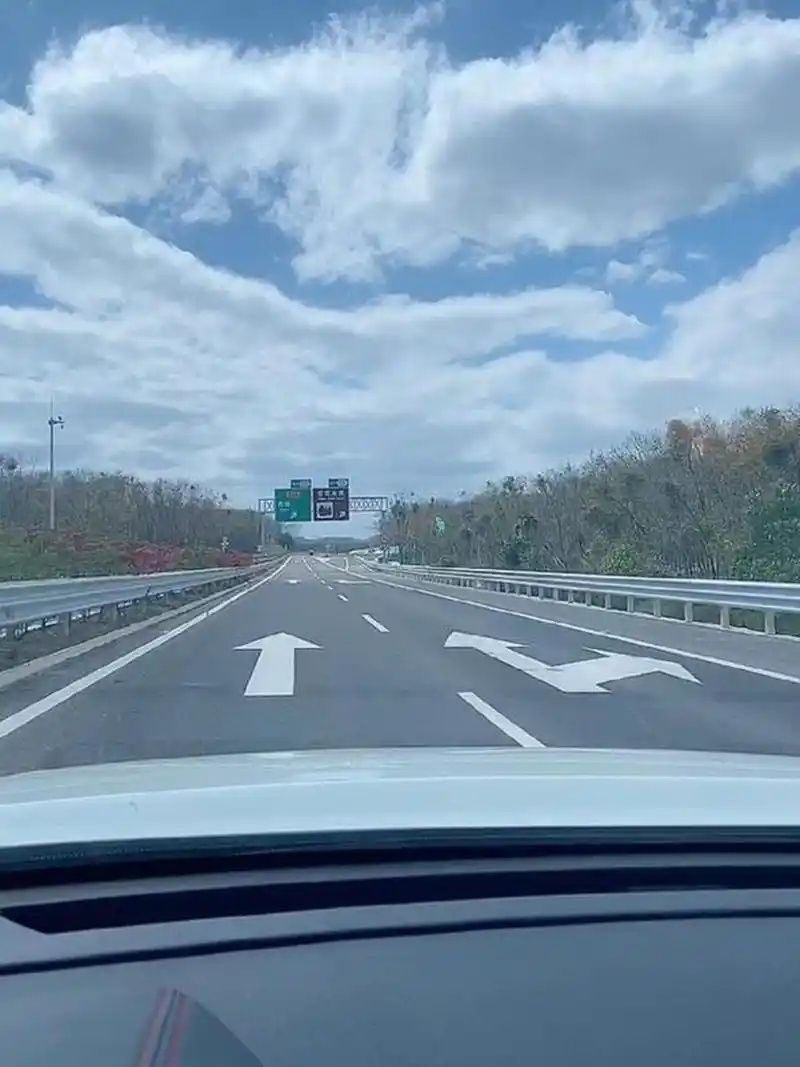lane: (5, 580, 254, 737), (523, 600, 800, 689), (454, 686, 542, 750), (360, 611, 397, 638)
